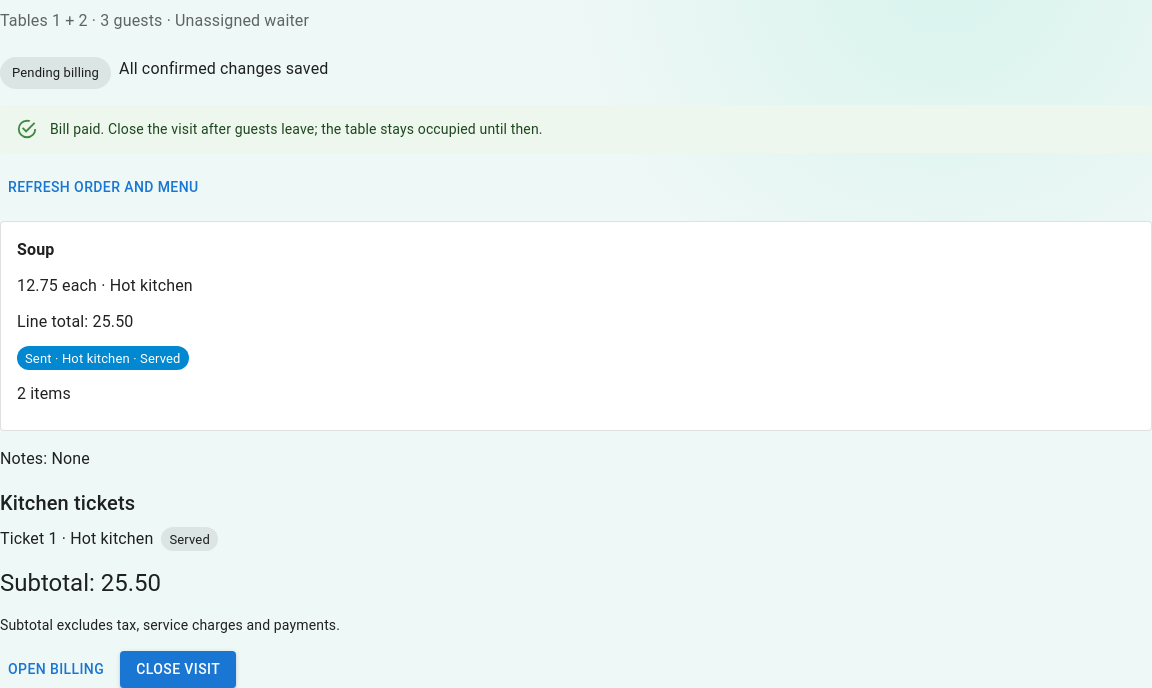
shows frozen order details to a cashier and explains manual closure
(page scrolled)
Expected: the text "Pending billing" is shown, [12,65,99,80]
Click the button "Close visit": coordinates (178, 670) [120,651,236,687]
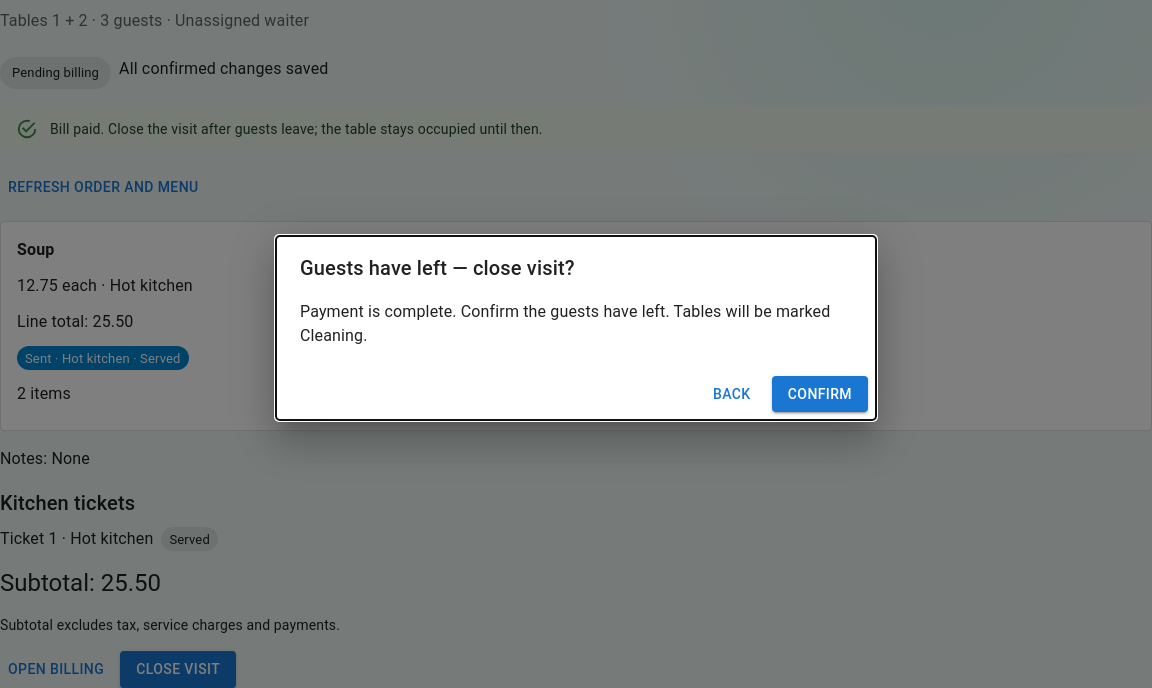
Result: the text "Payment is complete" is shown at [300,302,830,345]
